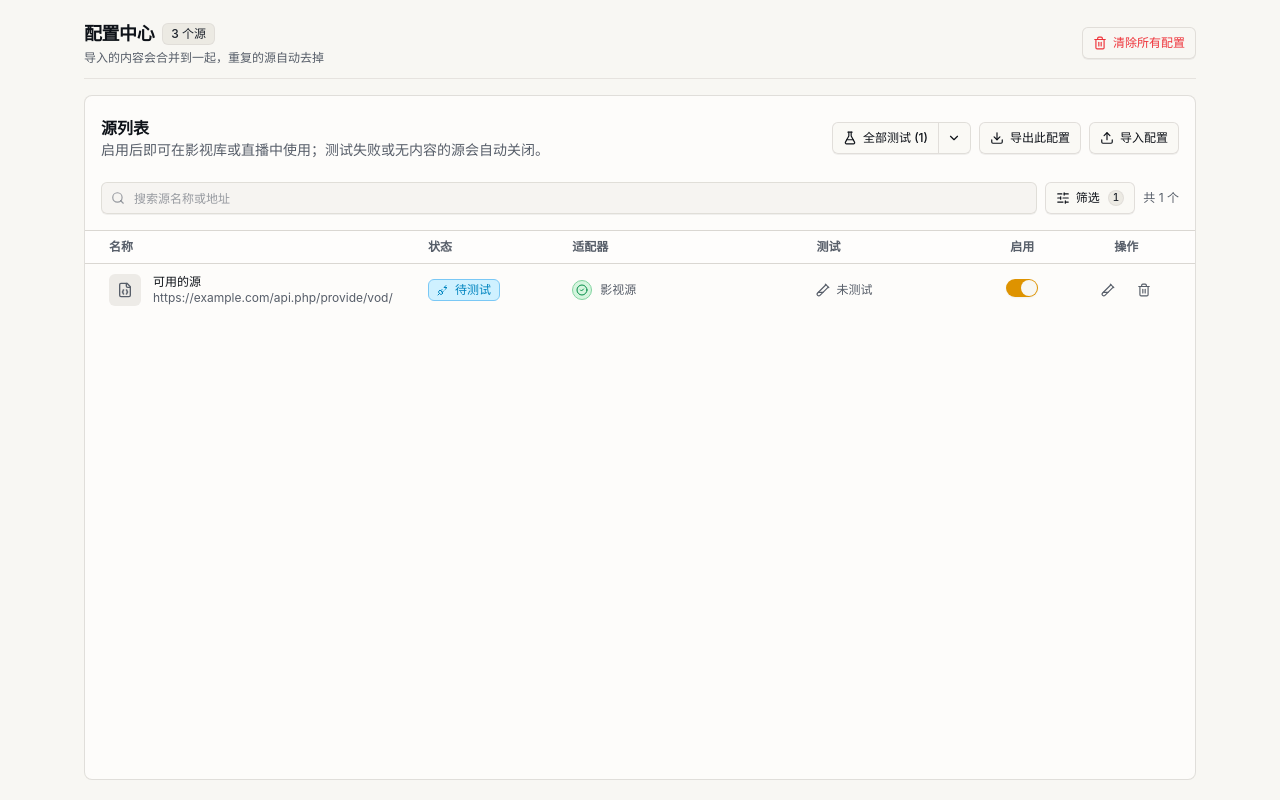
config center › opens the detail sheet by clicking the row, with no extra button
Step 1. Click the button "筛选 1" → (1090, 198), box [1045, 182, 1135, 214]
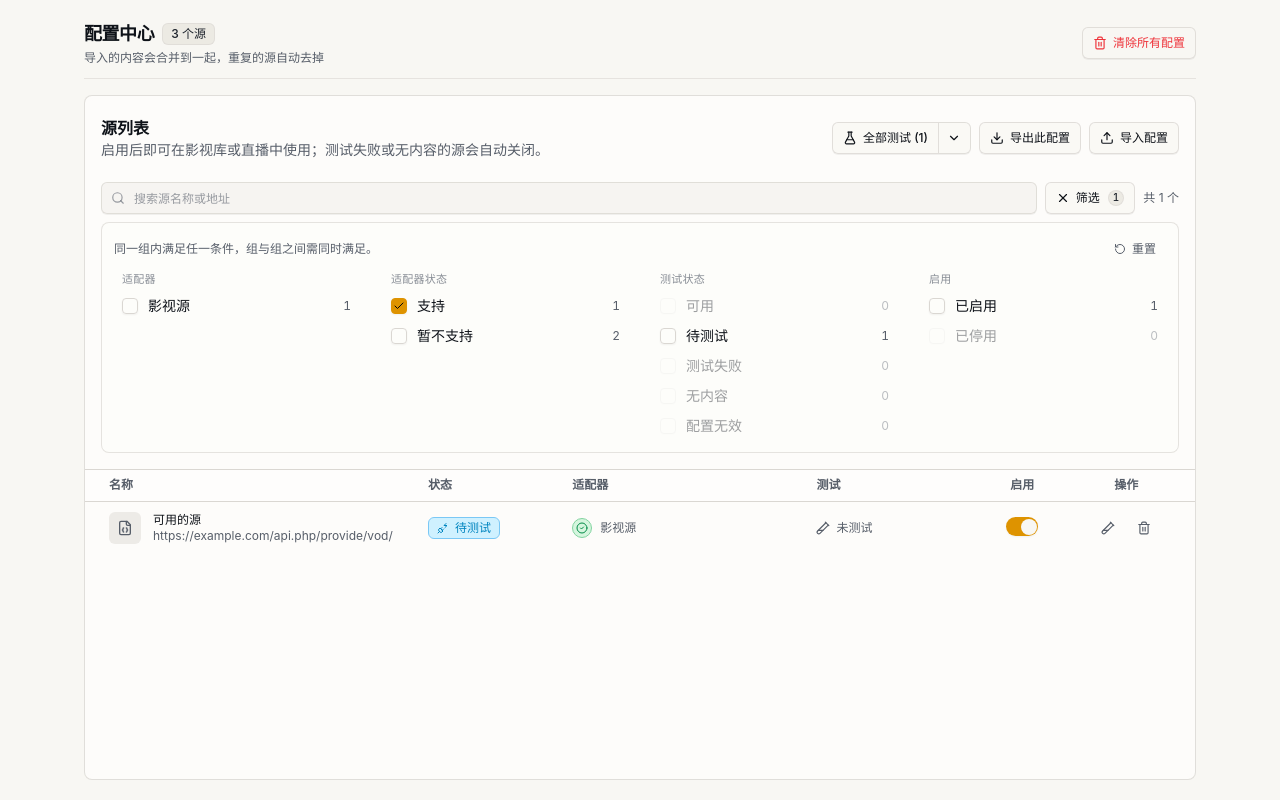
Step 2. Click the button "重置" → (1135, 249), box [1104, 235, 1166, 263]
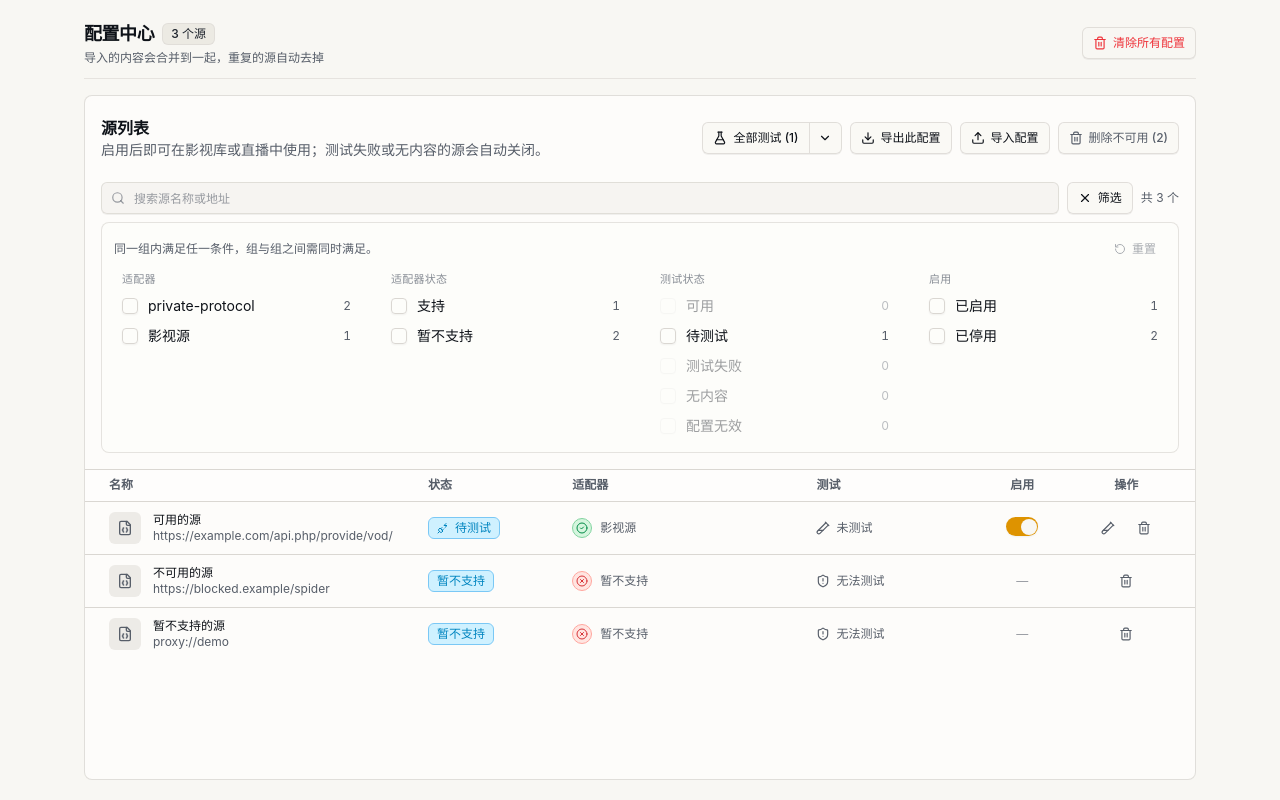
Step 3. Click the checkbox named "支持" → (399, 306), box [391, 298, 407, 314]
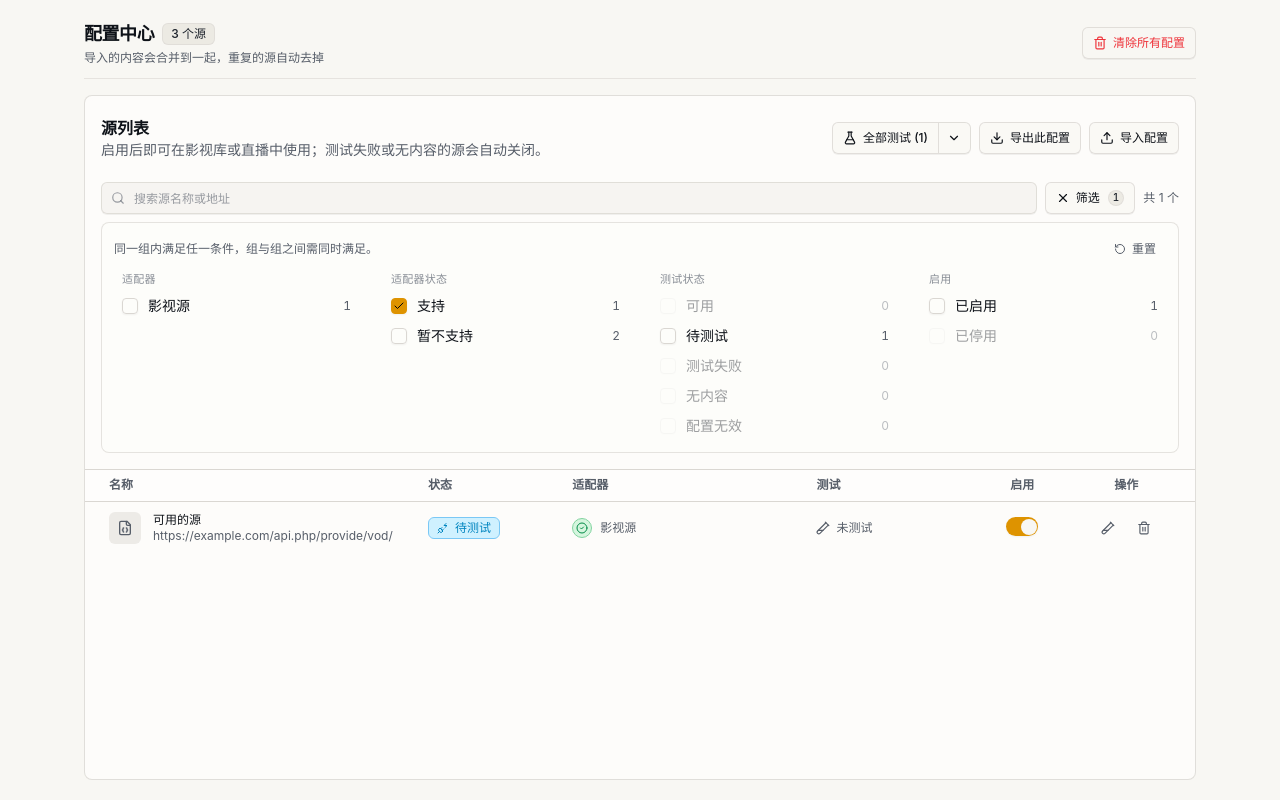
Step 4. Click the button "重置" → (1135, 249), box [1104, 235, 1166, 263]
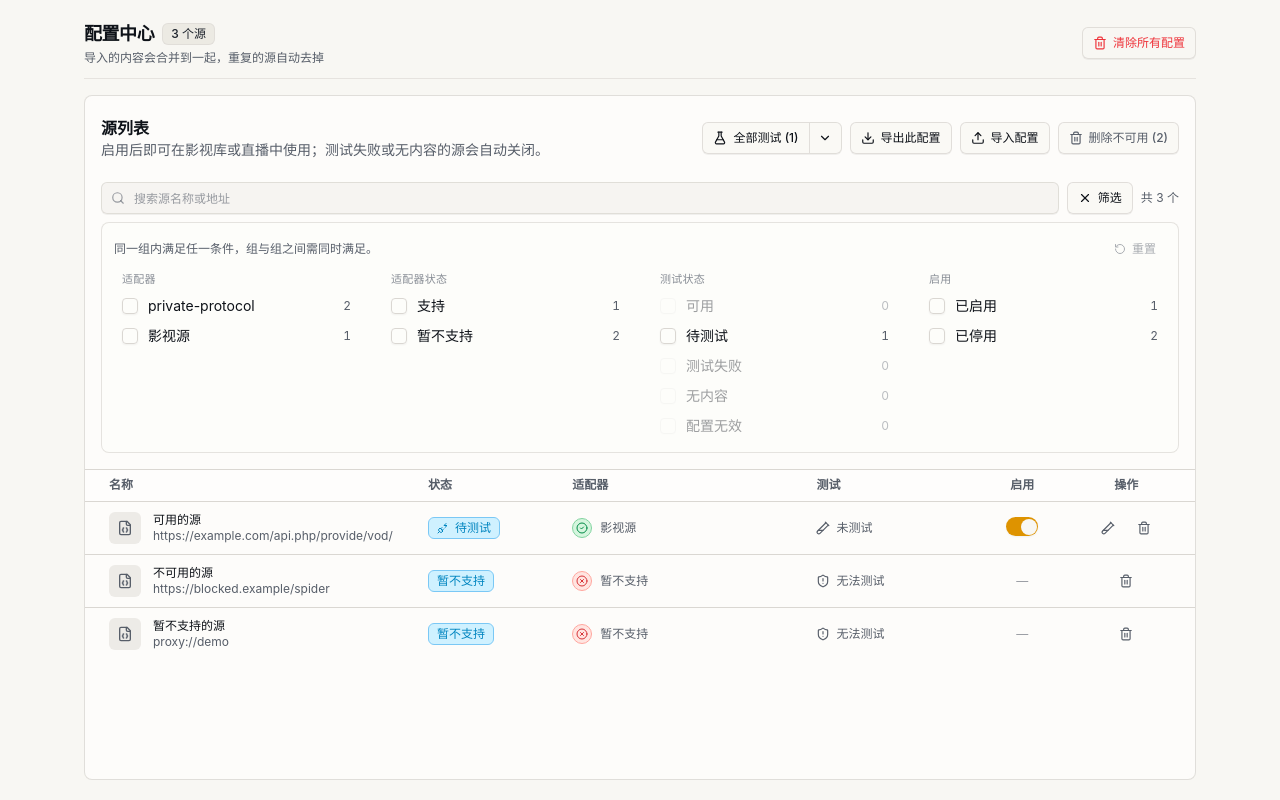
Step 5. Click the checkbox named "暂不支持" → (399, 336), box [391, 328, 407, 344]
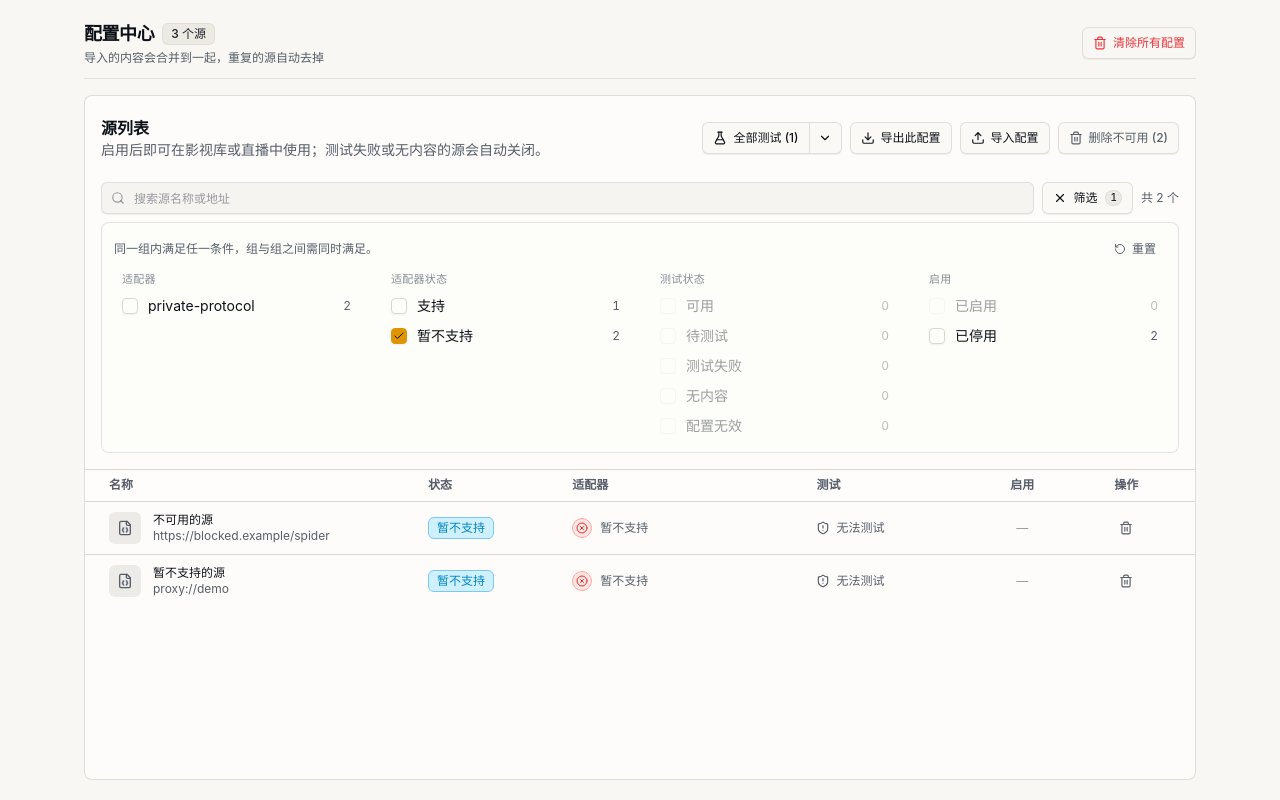
Step 6. Click the row "不可用的源 https://blocked.example/spider 暂不支持 暂不支持 无法测试 —" → (640, 528), box [85, 502, 1195, 554]
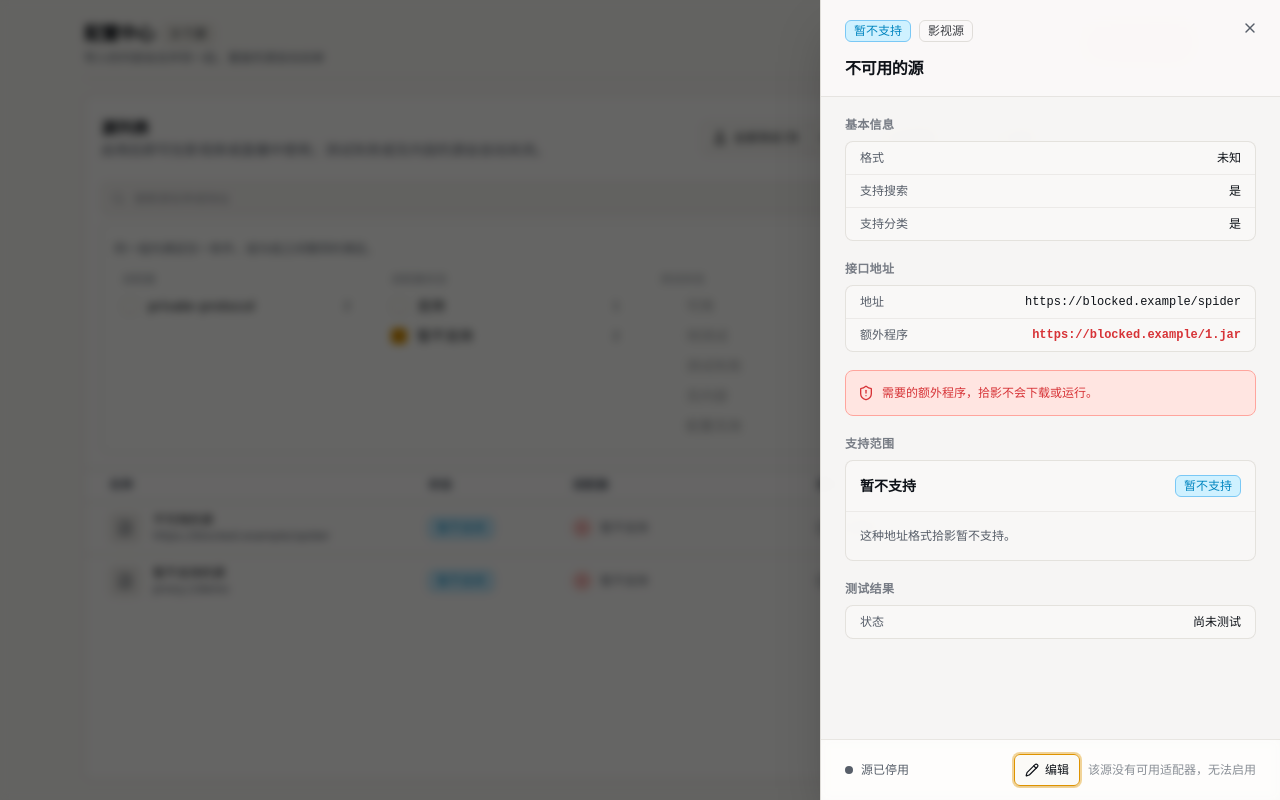
Now the heading "支持范围" is shown, box [845, 436, 894, 452]
